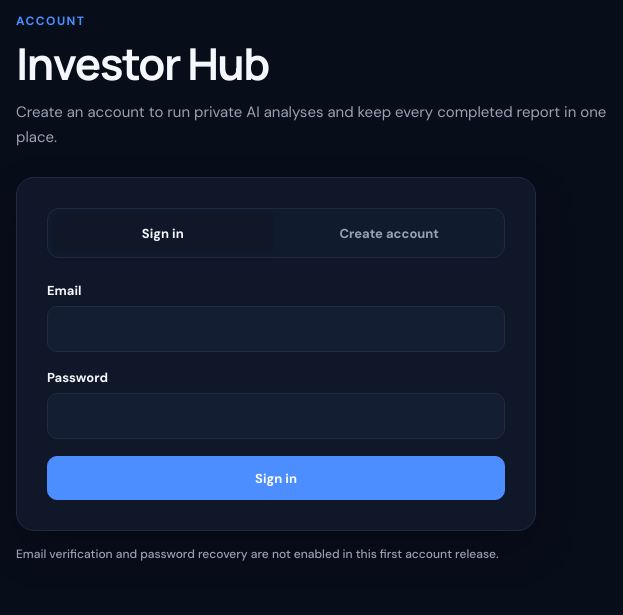
Test: Investor Hub › surfaces Better Auth errors without exposing internals
Type "person@example.com" into the field labelled "Email". click: (276, 330)
box: [47,306,505,352]
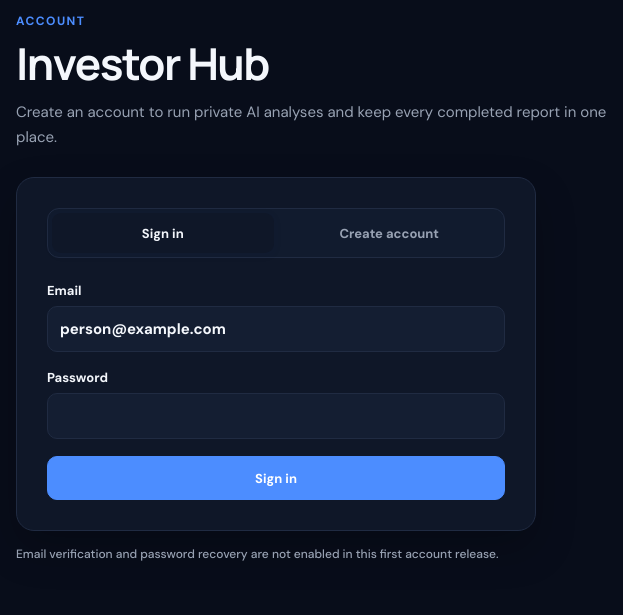
Type "wrongpass" into the password field labelled "Password". click: (276, 416)
box: [47,394,505,440]
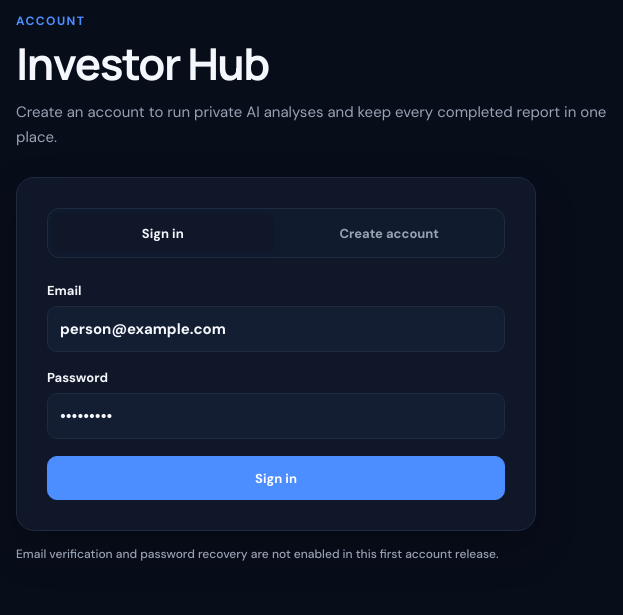
Click the 2nd button "Sign in". click: (276, 478)
box: [47,456,505,500]
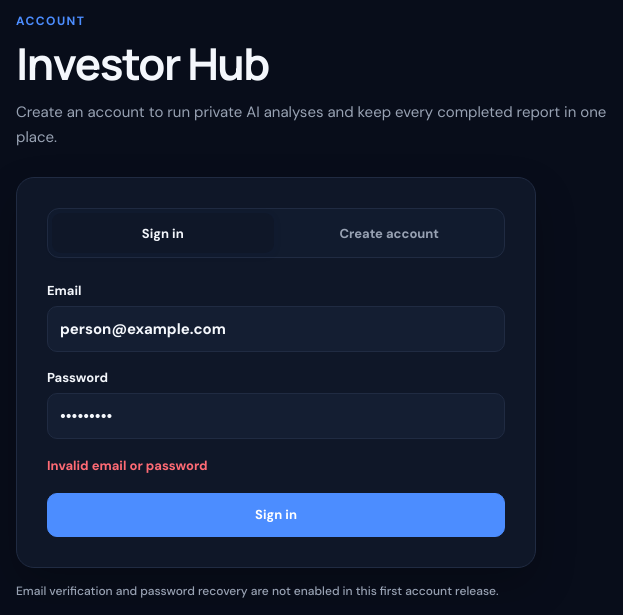
Result: the message reads "Invalid email or password" at [47,458,208,474]
